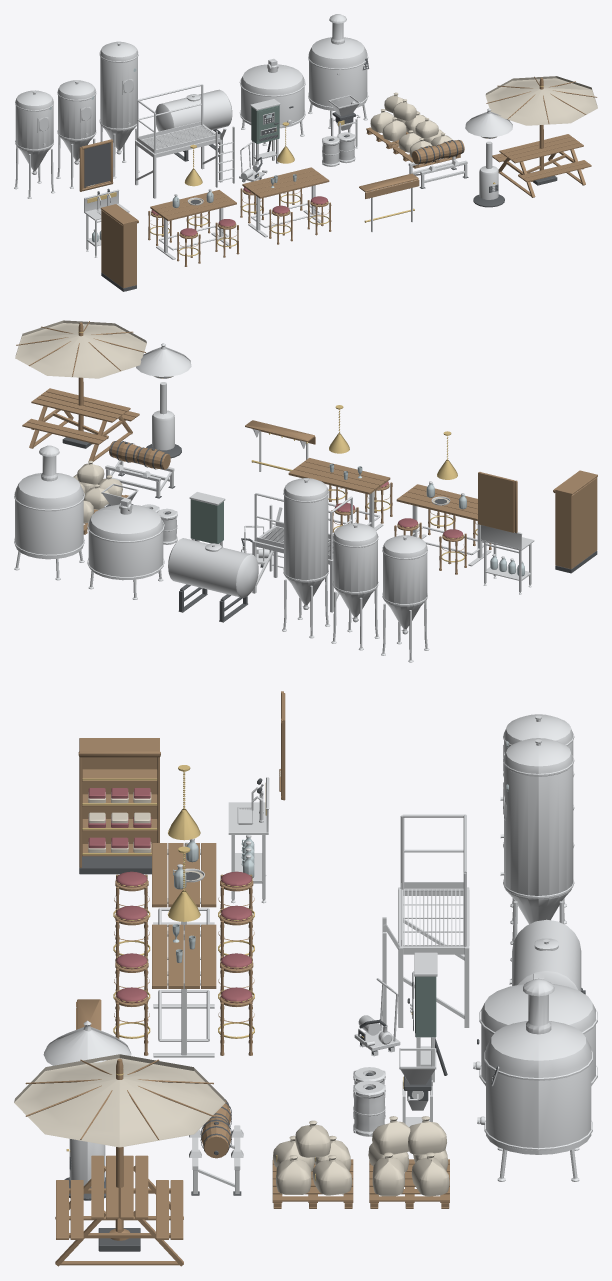
The model's file is bar-pub-and-brewery-taproom-taproom-84882e51__18444.glb.
3 views of the same model, one above another, from view 1: azimuth 30°, elevation 25°; view 2: azimuth 150°, elevation 25°; view 3: azimuth 270°, elevation 25° (orthographic). The views are drawn at different scales.
Visible parts, largest first — view 1: 005-brew-kettle/0, 039-beer-garden-parasol/2, 002-fermentation-tank-tall/0, 006-tank-walkway-platform/0, 004-mash-tun/0, 000-fermentation-tank-small/0, 001-fermentation-tank-small/0, 040-beer-garden-picnic-table/0, 018-taproom-merchandise-shelf/1, 003-brite-tank/0, 041-patio-heater/1, 010-grain-sack-stack/1 (+18 smaller); view 2: 005-brew-kettle/0, 039-beer-garden-parasol/2, 002-fermentation-tank-tall/0, 004-mash-tun/0, 001-fermentation-tank-small/0, 000-fermentation-tank-small/0, 003-brite-tank/0, 018-taproom-merchandise-shelf/1, 040-beer-garden-picnic-table/0, 041-patio-heater/1, 030-chalkboard-menu-frame/0, 006-tank-walkway-platform/0 (+14 smaller); view 3: 005-brew-kettle/0, 039-beer-garden-parasol/2, 002-fermentation-tank-tall/0, 040-beer-garden-picnic-table/0, 018-taproom-merchandise-shelf/1, 006-tank-walkway-platform/0, 010-grain-sack-stack/1, 011-hop-sack-pallet/1, 004-mash-tun/0, 003-brite-tank/0, 020-taproom-high-table/1, 041-patio-heater/1 (+20 smaller).
Boxes of the visible parts, left/top/right/bottom form: 005-brew-kettle/0: left=308, top=14, right=369, bottom=128; 039-beer-garden-parasol/2: left=485, top=76, right=597, bottom=125; 002-fermentation-tank-tall/0: left=99, top=41, right=139, bottom=178; 006-tank-walkway-platform/0: left=135, top=84, right=234, bottom=198; 004-mash-tun/0: left=239, top=58, right=305, bottom=145; 000-fermentation-tank-small/0: left=14, top=90, right=55, bottom=198; 001-fermentation-tank-small/0: left=56, top=80, right=96, bottom=188; 040-beer-garden-picnic-table/0: left=492, top=134, right=591, bottom=197; 018-taproom-merchandise-shelf/1: left=100, top=204, right=138, bottom=288; 003-brite-tank/0: left=155, top=89, right=232, bottom=131; 041-patio-heater/1: left=465, top=108, right=512, bottom=199; 010-grain-sack-stack/1: left=370, top=92, right=426, bottom=141; 005-brew-kettle/0: left=14, top=445, right=84, bottom=580; 039-beer-garden-parasol/2: left=15, top=320, right=146, bottom=378; 002-fermentation-tank-tall/0: left=282, top=478, right=330, bottom=638; 004-mash-tun/0: left=87, top=498, right=164, bottom=599; 001-fermentation-tank-small/0: left=331, top=523, right=379, bottom=650; 000-fermentation-tank-small/0: left=381, top=535, right=429, bottom=662; 003-brite-tank/0: left=168, top=538, right=258, bottom=597; 018-taproom-merchandise-shelf/1: left=553, top=470, right=597, bottom=569; 040-beer-garden-picnic-table/0: left=22, top=388, right=139, bottom=461; 041-patio-heater/1: left=136, top=343, right=191, bottom=450; 030-chalkboard-menu-frame/0: left=478, top=472, right=517, bottom=532; 006-tank-walkway-platform/0: left=252, top=493, right=352, bottom=612; 005-brew-kettle/0: left=477, top=978, right=592, bottom=1181; 039-beer-garden-parasol/2: left=14, top=1054, right=225, bottom=1147; 002-fermentation-tank-tall/0: left=500, top=738, right=574, bottom=979; 040-beer-garden-picnic-table/0: left=55, top=1155, right=183, bottom=1266; 018-taproom-merchandise-shelf/1: left=78, top=738, right=160, bottom=867; 006-tank-walkway-platform/0: left=382, top=814, right=469, bottom=1027; 010-grain-sack-stack/1: left=368, top=1116, right=449, bottom=1196; 011-hop-sack-pallet/1: left=273, top=1120, right=352, bottom=1195; 004-mash-tun/0: left=473, top=973, right=597, bottom=1085; 003-brite-tank/0: left=509, top=919, right=581, bottom=991; 020-taproom-high-table/1: left=152, top=924, right=216, bottom=988; 041-patio-heater/1: left=43, top=1020, right=131, bottom=1185.
Size of the model in its own units: 12.51 by 3.15 by 7.25.
